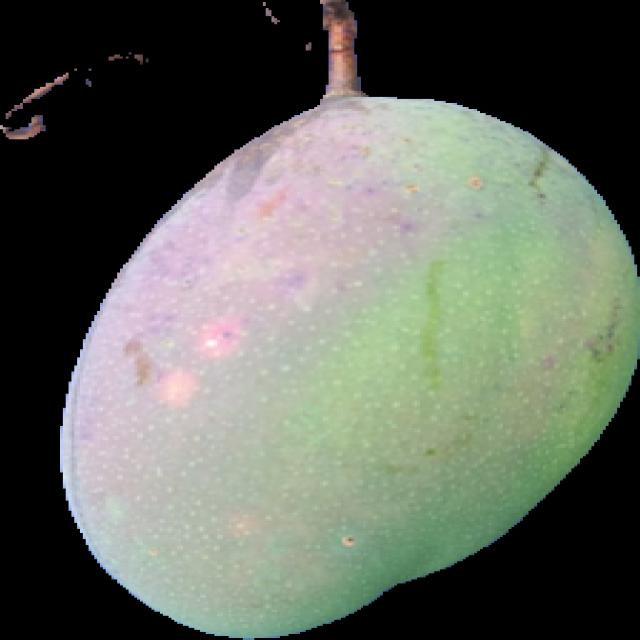Mango-sano: (60, 0, 639, 639)
